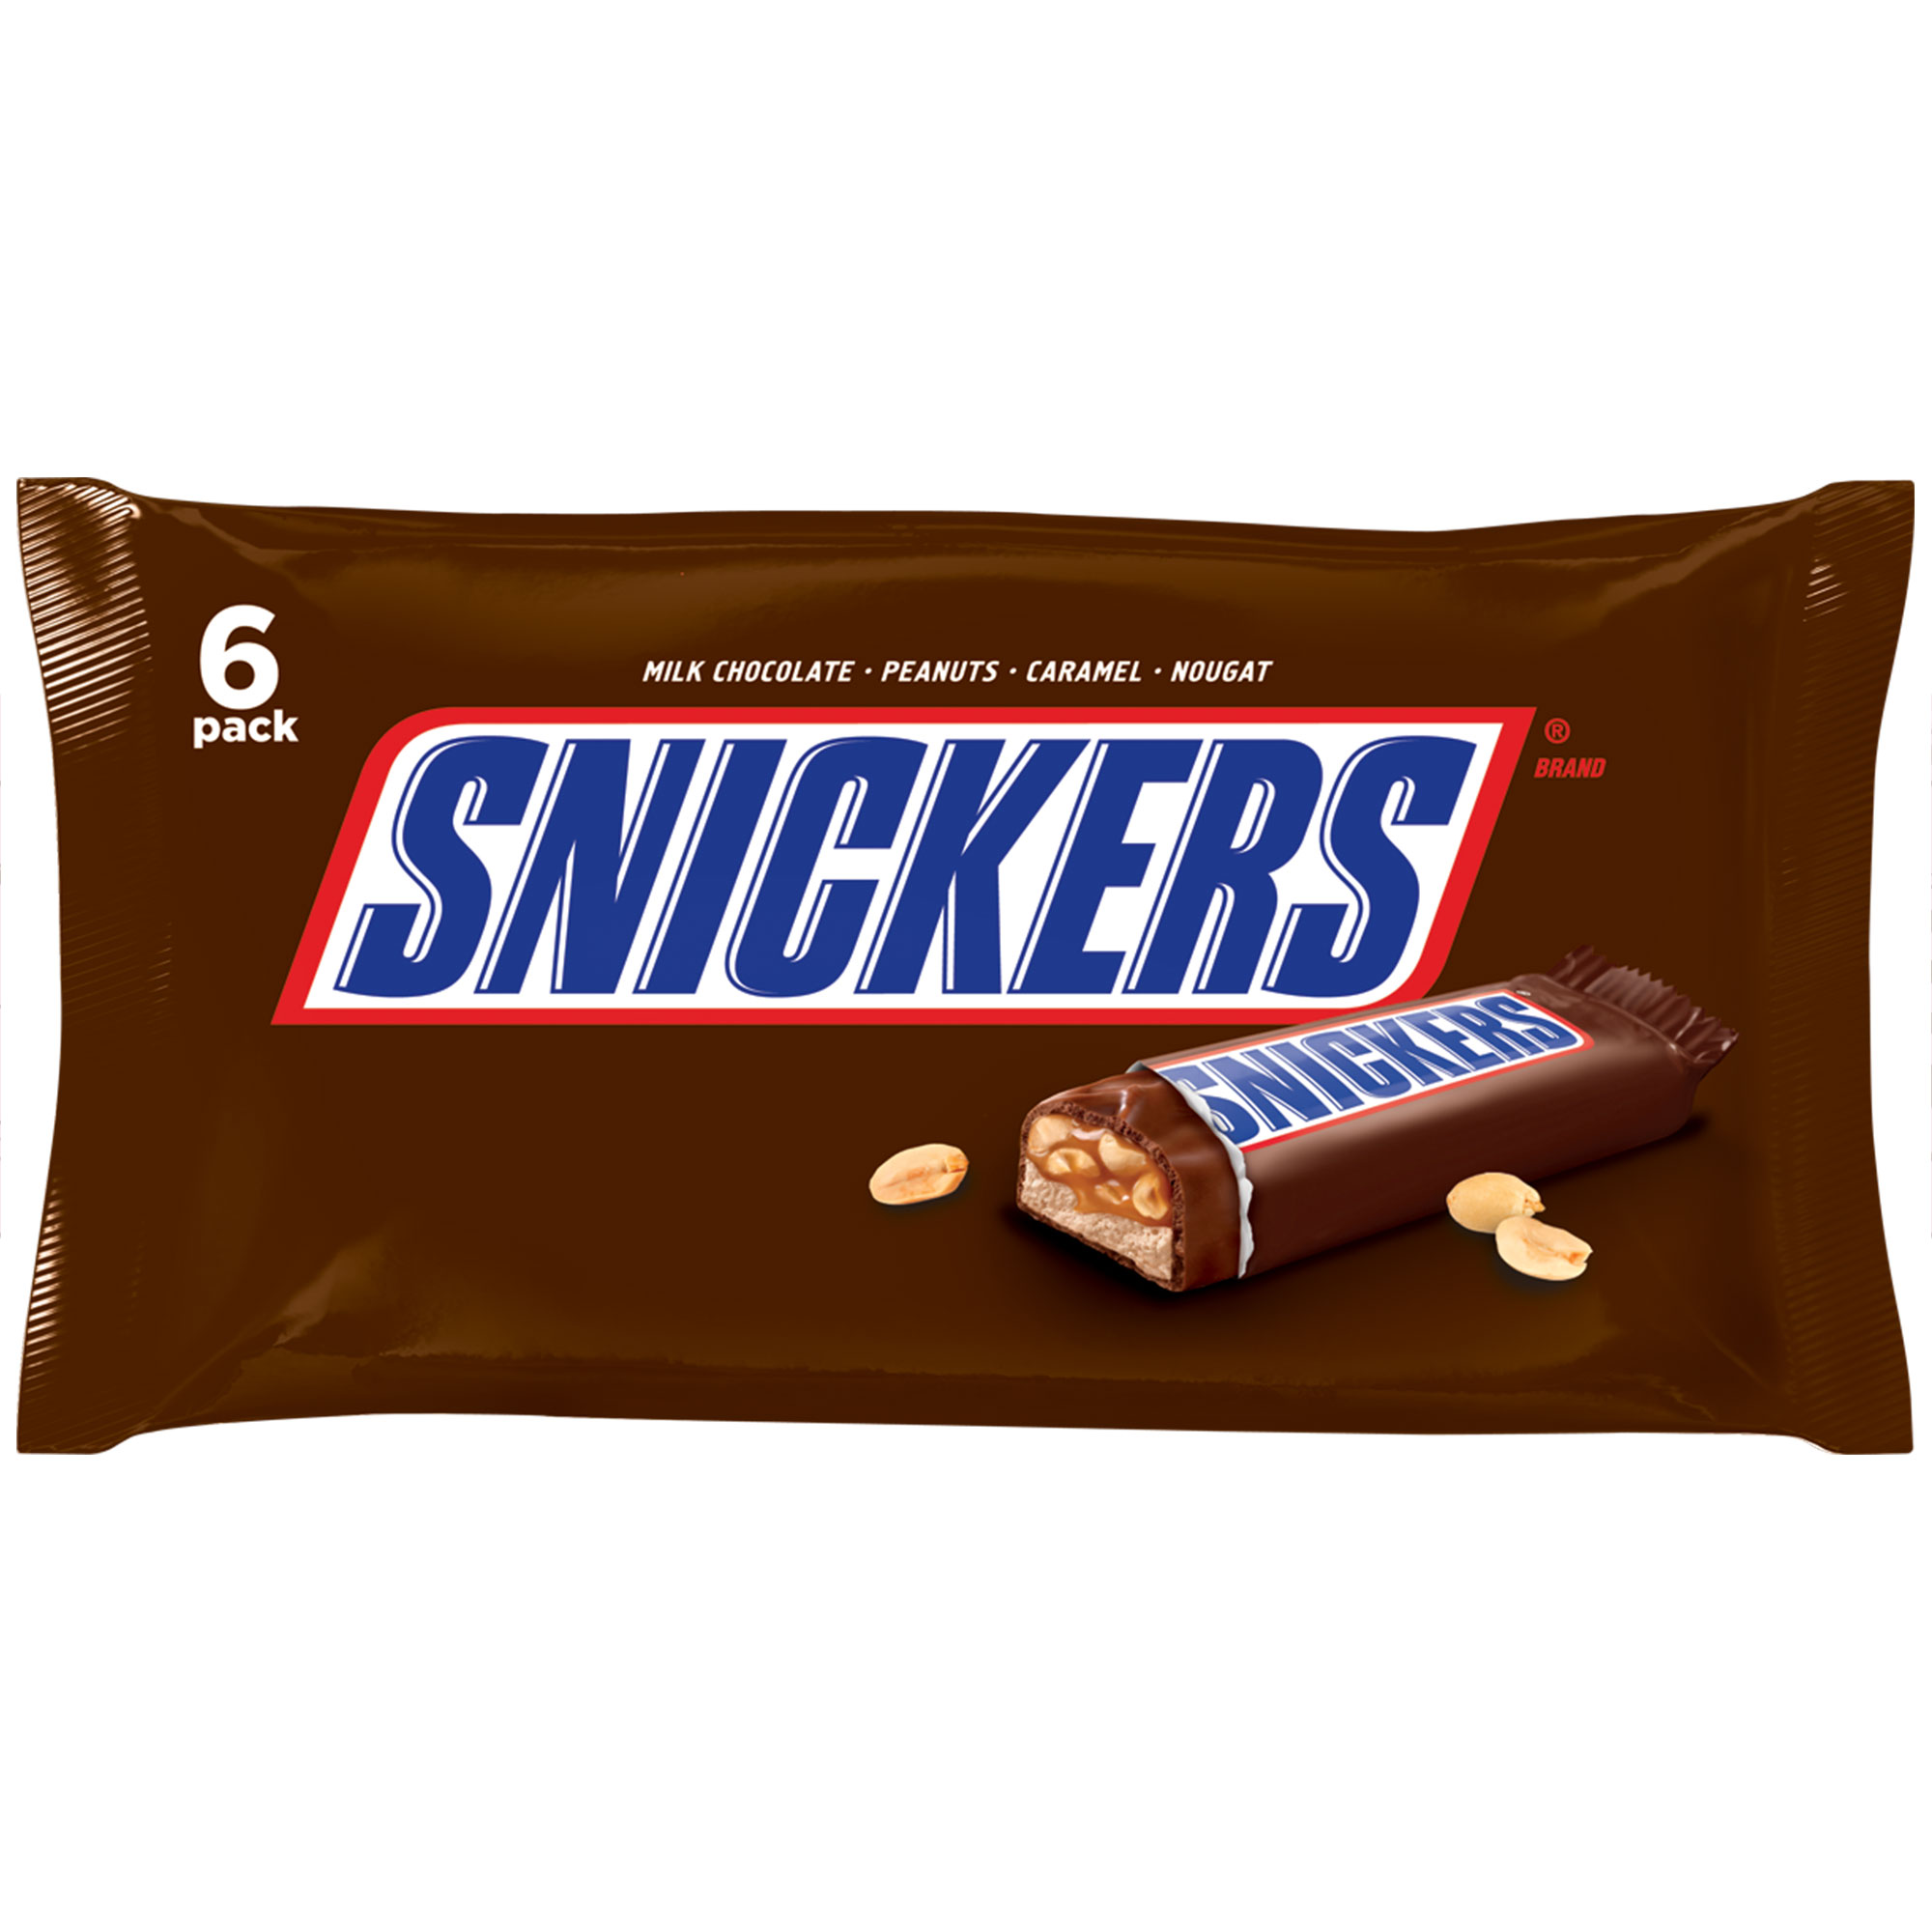snickers: (333, 731, 1479, 994), (333, 740, 1479, 994), (1148, 982, 1576, 1143)
